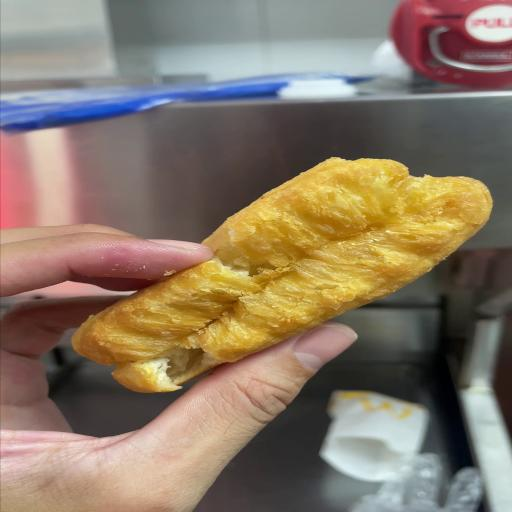brand_golden_defect: (72, 158, 492, 392)
